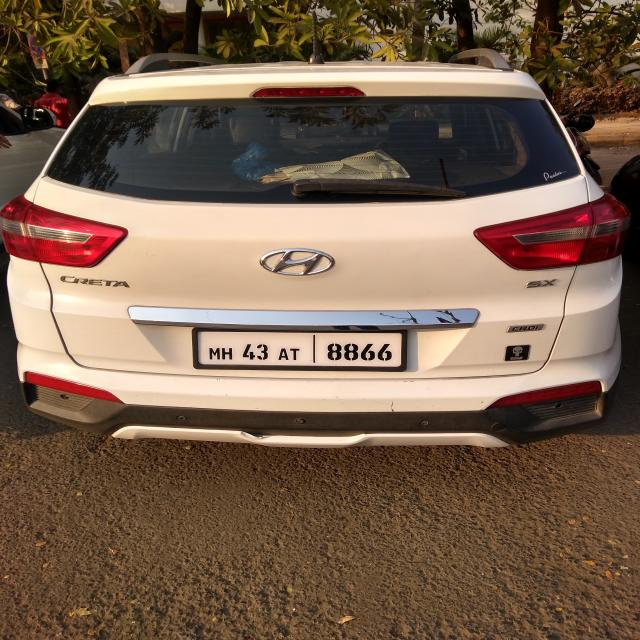Number-Plate: (188, 331, 410, 369)
